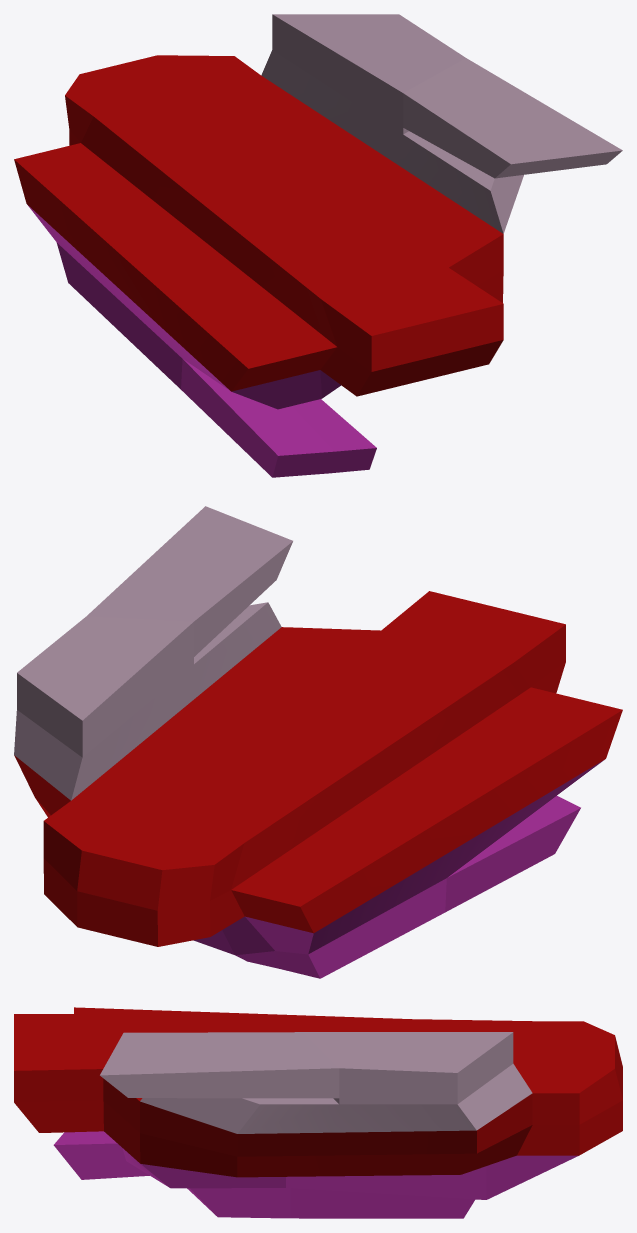
File: Platform_1_rework_bien.fbx
3 renders of one model, top to bottom at view 1: azimuth 30°, elevation 25°; view 2: azimuth 150°, elevation 25°; view 3: azimuth 270°, elevation 25°, orthographic. The views are drawn at different scales.
Parts seen in each view (by area): view 1: Platform_Rework_1_walk_1, Platform_Rework_1_walk_2, Platform_Rework_1_notwalk; view 2: Platform_Rework_1_walk_1, Platform_Rework_1_walk_2, Platform_Rework_1_notwalk; view 3: Platform_Rework_1_walk_1, Platform_Rework_1_walk_2, Platform_Rework_1_notwalk.
Part boxes in pixels (x1,y1,x2,y2): Platform_Rework_1_walk_1: (14, 55, 503, 396); Platform_Rework_1_walk_2: (261, 14, 622, 233); Platform_Rework_1_notwalk: (27, 204, 376, 477); Platform_Rework_1_walk_1: (14, 591, 622, 946); Platform_Rework_1_walk_2: (14, 506, 292, 800); Platform_Rework_1_notwalk: (193, 759, 604, 978); Platform_Rework_1_walk_1: (14, 1007, 622, 1177); Platform_Rework_1_walk_2: (100, 1032, 532, 1133); Platform_Rework_1_notwalk: (53, 1131, 578, 1218).
Bounding box in the file's own units: 471 × 287 × 724.
